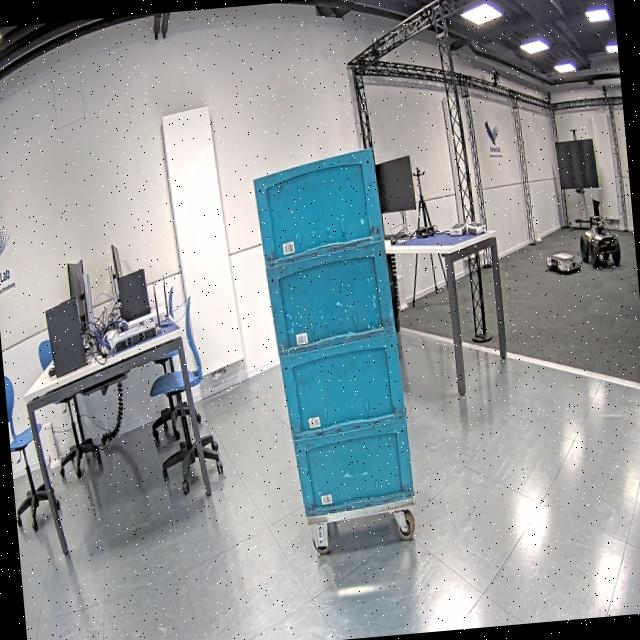BoxB4: (250, 144, 387, 272), (262, 235, 399, 362), (276, 327, 412, 442), (290, 414, 417, 522)
